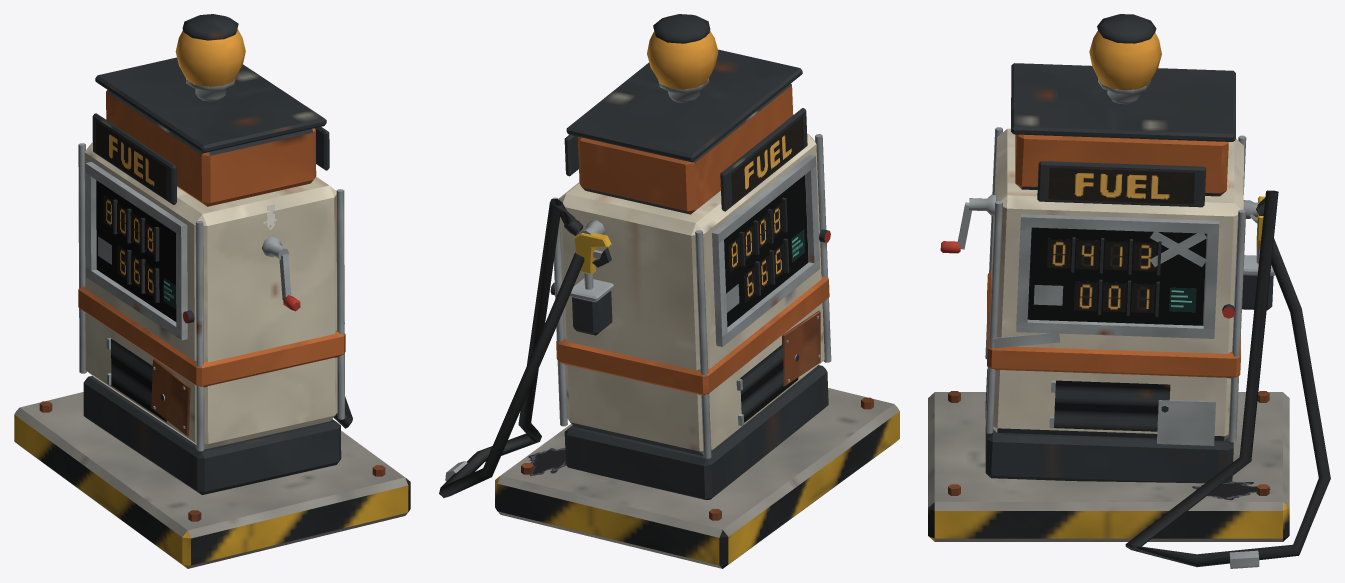
File: FuelPump.fbx
3 views of the same model, side by side, from view 1: azimuth 30°, elevation 25°; view 2: azimuth 150°, elevation 25°; view 3: azimuth 270°, elevation 25° (orthographic). The views are drawn at different scales.
Parts seen in each view (by area): view 1: FuelPump, Neon Pump FUEL; view 2: FuelPump, Neon Pump FUEL; view 3: FuelPump, Neon Pump FUEL.
Part boxes in pixels (<box>): FuelPump: <box>14,14,410,568</box>; Neon Pump FUEL: <box>96,29,245,198</box>; FuelPump: <box>439,14,899,568</box>; Neon Pump FUEL: <box>647,31,803,204</box>; FuelPump: <box>928,14,1330,568</box>; Neon Pump FUEL: <box>1048,31,1194,204</box>.
Bounding box in the file's own units: 1.58 × 2.35 × 1.83.
